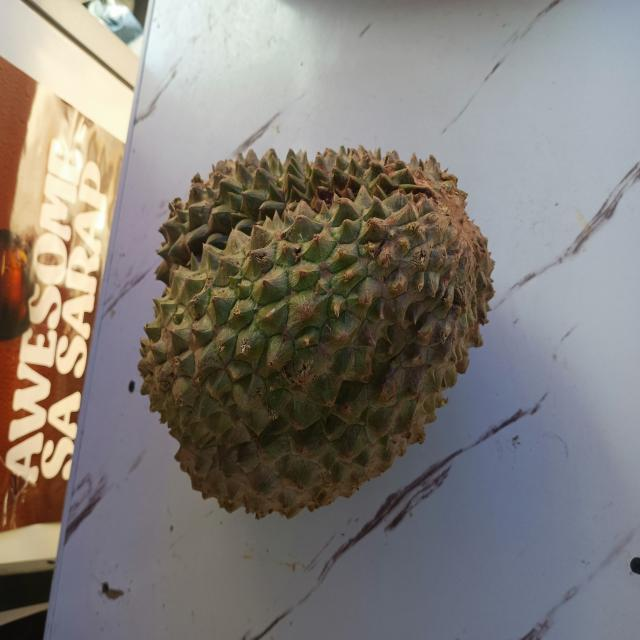mature: (129, 138, 490, 620)
